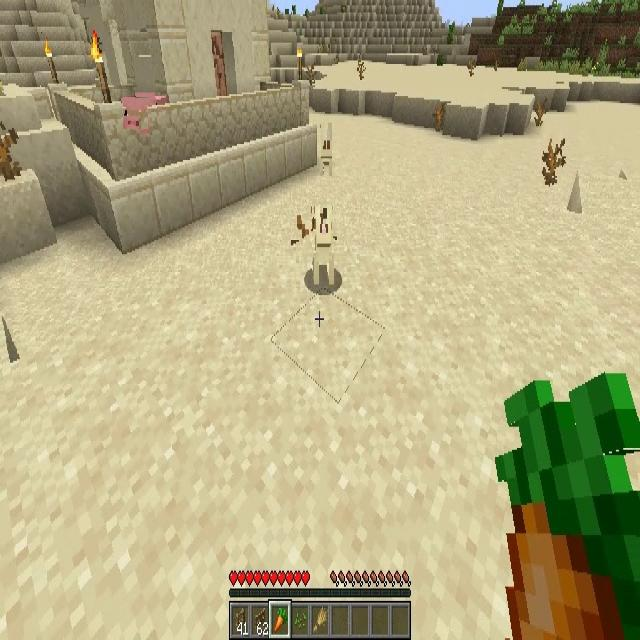pig: (123, 97, 148, 129)
rabbit: (308, 207, 334, 288), (316, 123, 333, 170)
